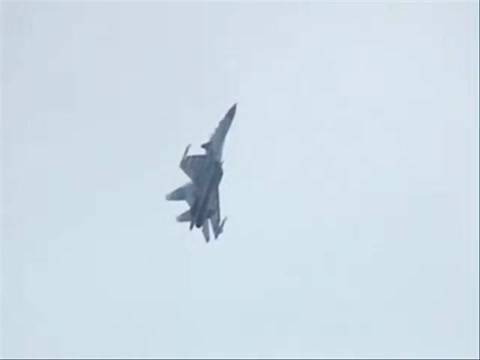aeroplane: (166, 102, 241, 244)
